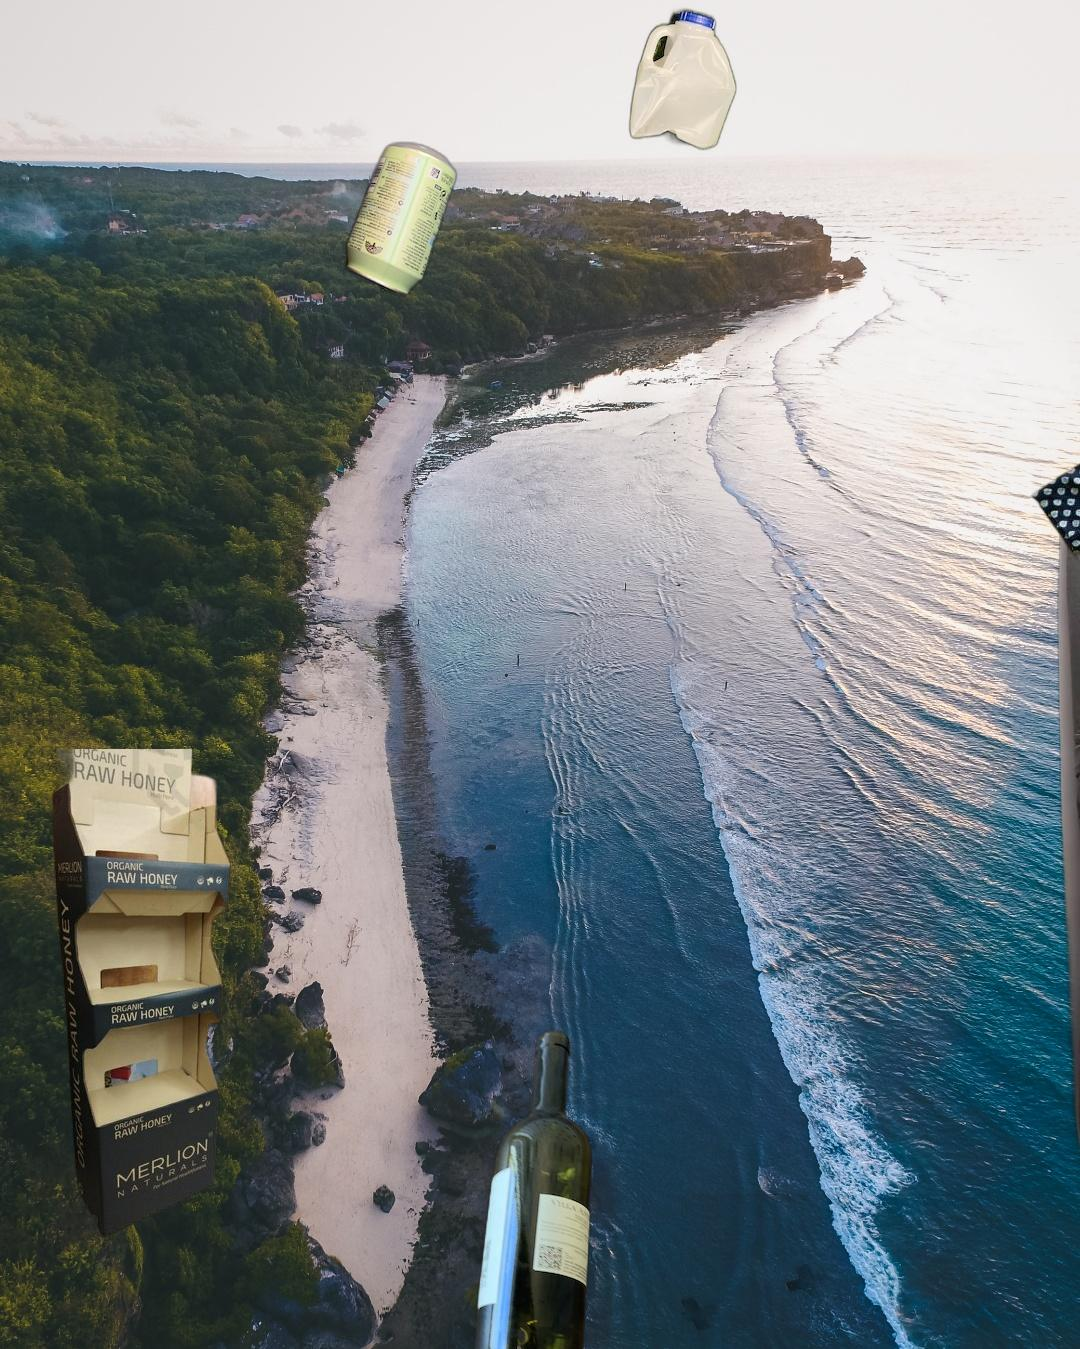clothes: (1051, 489, 1080, 1189), (1027, 416, 1080, 709)
glass: (466, 1025, 597, 1349)
metal-cans: (341, 136, 462, 301)
penholder: (604, 1243, 1080, 1349)
plastic-bottles: (681, 1194, 1080, 1349), (625, 4, 741, 157)
trashbox-cardboard: (48, 749, 233, 1240)
